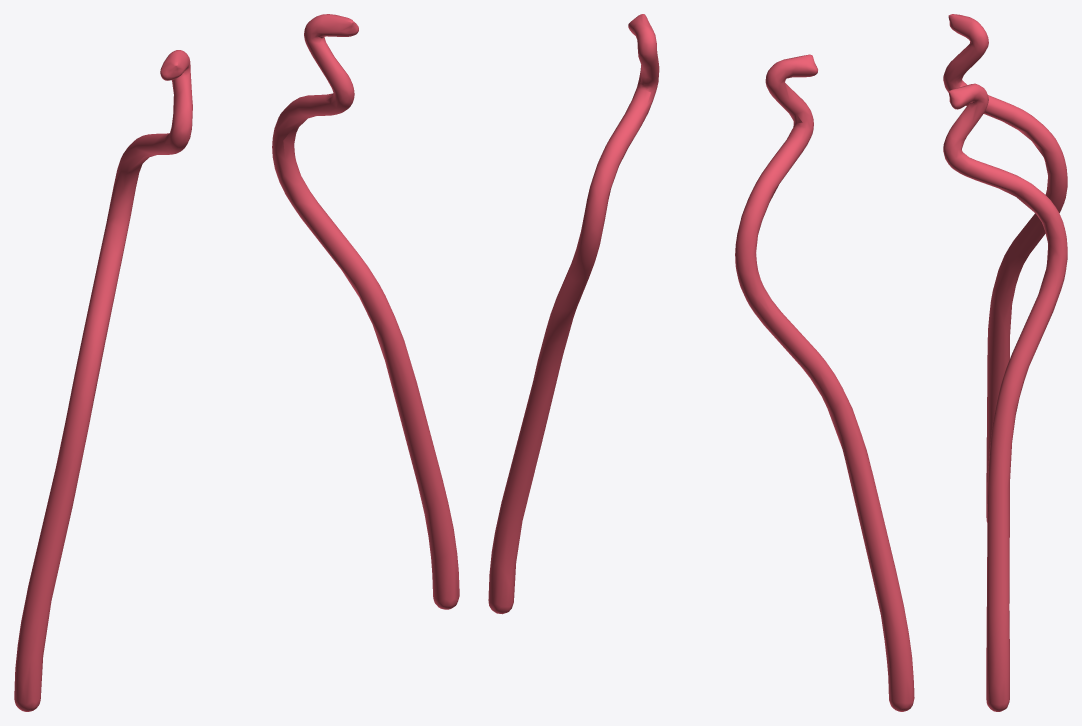
File: carotid.glb
The picture shows the model from 3 angles, left to right: view 1: azimuth 30°, elevation 25°; view 2: azimuth 150°, elevation 25°; view 3: azimuth 270°, elevation 25°; orthographic projection. The views are drawn at different scales.
Visible parts, largest first — view 1: grp1; view 2: grp1; view 3: grp1.
Boxes of the visible parts, x1,y1,x2,y2 form: grp1: (14, 14, 459, 711); grp1: (488, 14, 914, 711); grp1: (943, 14, 1067, 711).
Bounding box in the file's own units: 0.0749 × 0.1032 × 0.0205.
